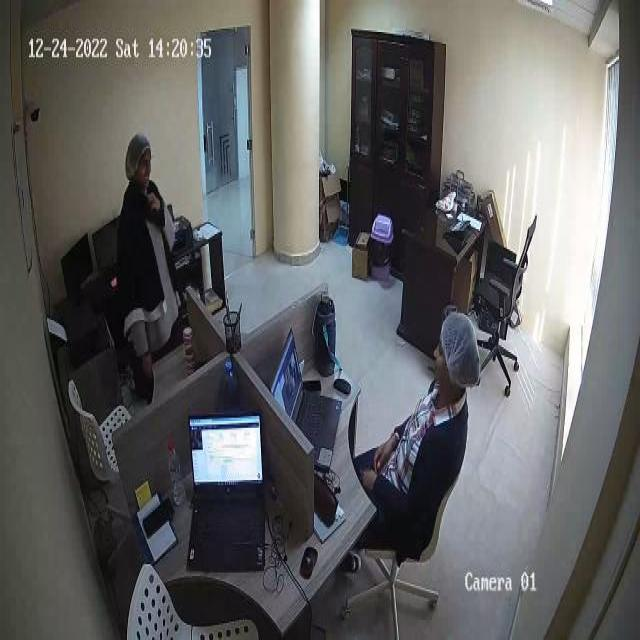hairnet: (441, 319, 478, 390), (121, 133, 144, 181)
